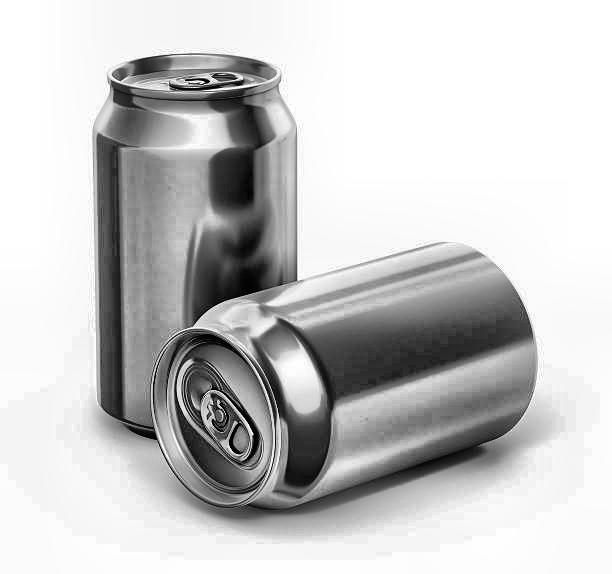can: (150, 231, 540, 514), (74, 37, 326, 450)
